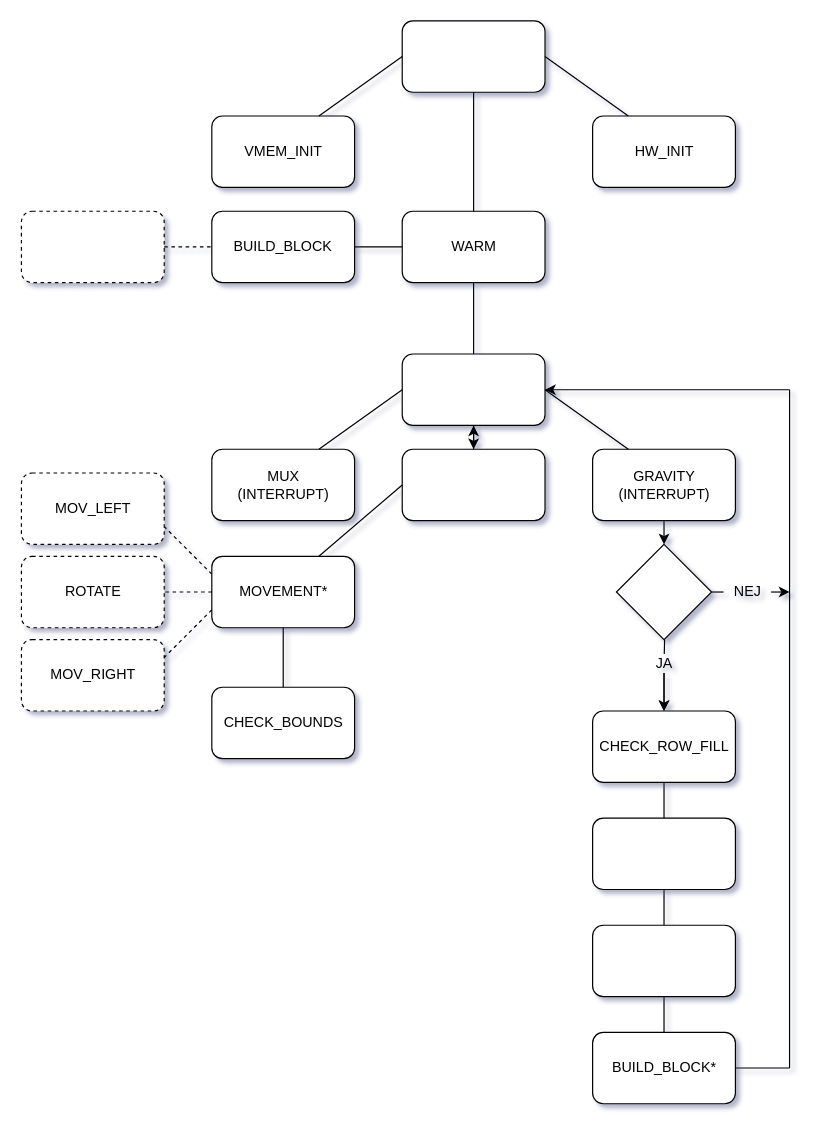
Some shapes in this 827 by 1132 pixel diagram are drawn without their labels. Here are the shapes that lost their labels. From the top down, the centre of each, then its label:
(x=473, y=56): COLD
(x=92, y=246): RND_NUM_GEN
(x=473, y=389): START
(x=473, y=484): GET_KEY
(x=663, y=591): KOLLISION?
(x=663, y=853): CHECK_IF_LOSE
(x=663, y=960): UPDATE_POS
